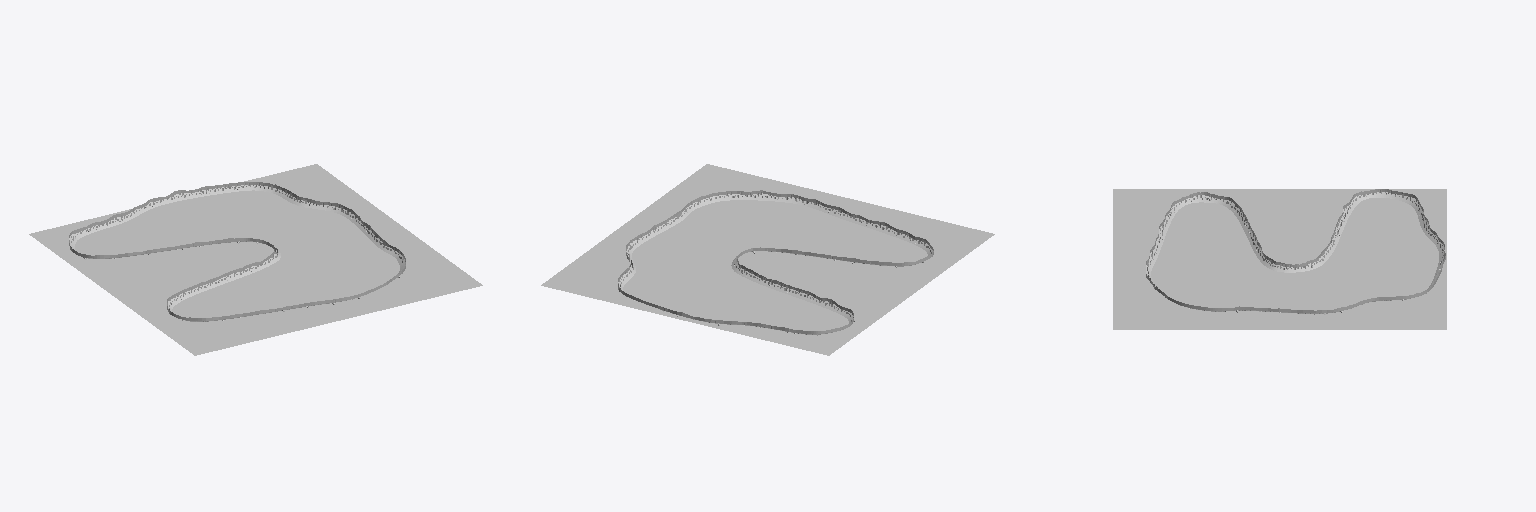
The picture shows the model from 3 angles: view 1: azimuth 30°, elevation 25°; view 2: azimuth 150°, elevation 25°; view 3: azimuth 270°, elevation 25°; orthographic projection.
Visible parts, largest first — view 1: Plane, Wall_08, Wall_09, Wall_04, Wall_07; view 2: Plane, Wall_01, Wall_02, Wall_06, Wall_00; view 3: Plane, Wall_03, Wall_07.
Boxes of the visible parts, <box> form: Plane: <box>29,164,482,355</box>; Wall_08: <box>135,182,243,213</box>; Wall_09: <box>243,182,347,215</box>; Wall_04: <box>196,251,280,292</box>; Wall_07: <box>69,207,139,250</box>; Plane: <box>541,164,994,355</box>; Wall_01: <box>695,190,815,207</box>; Wall_02: <box>812,200,906,239</box>; Wall_06: <box>776,282,853,325</box>; Wall_00: <box>629,200,698,249</box>; Plane: <box>1113,189,1446,329</box>; Wall_03: <box>1166,192,1245,221</box>; Wall_07: <box>1381,189,1435,239</box>.
Size of the model in its own units: 1400 by 35.88 by 1400.